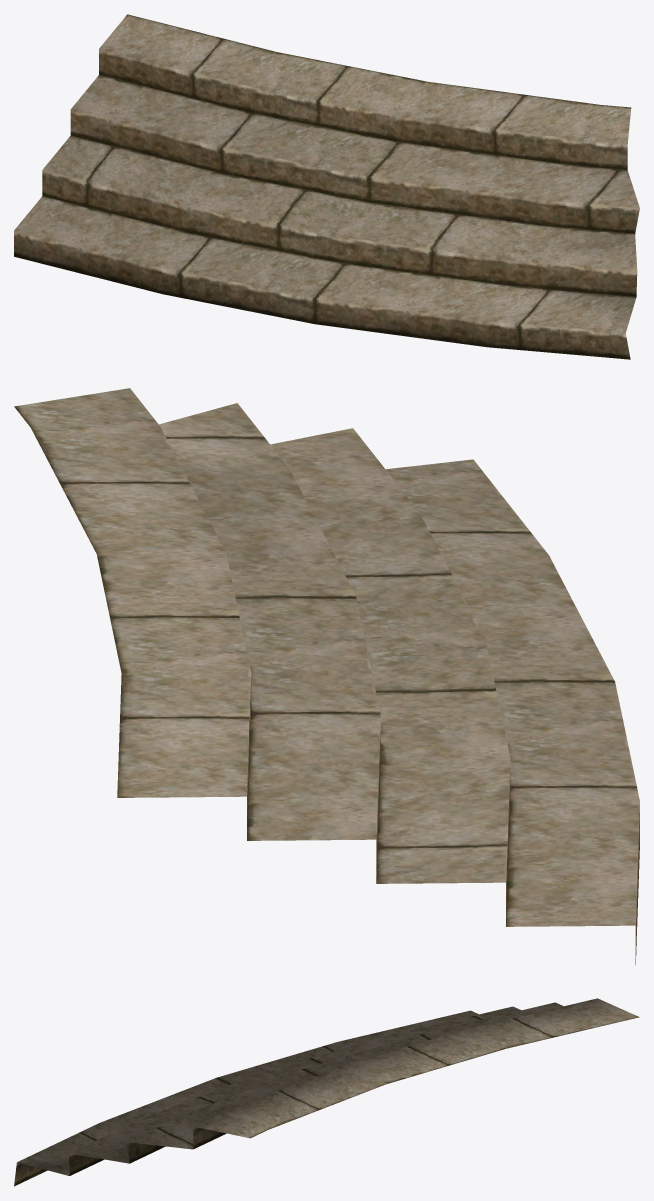
The model's file is EKH_THRONE_PS_TH_STEPS_04.fbx.
The picture shows the model from 3 angles, top to bottom: view 1: azimuth 30°, elevation 25°; view 2: azimuth 150°, elevation 25°; view 3: azimuth 270°, elevation 25°; orthographic projection. The views are drawn at different scales.
Parts seen in each view (by area): view 1: EKH_THRONE_PS_TH_STEPS_04; view 2: EKH_THRONE_PS_TH_STEPS_04; view 3: EKH_THRONE_PS_TH_STEPS_04.
Part boxes in pixels (left/top/right/bottom): EKH_THRONE_PS_TH_STEPS_04: left=14, top=14, right=639, bottom=359; EKH_THRONE_PS_TH_STEPS_04: left=14, top=388, right=639, bottom=964; EKH_THRONE_PS_TH_STEPS_04: left=14, top=998, right=639, bottom=1186.
Bounding box in the file's own units: 54772 × 12845 × 68621.
Materials: 1 (1 with a texture image).
